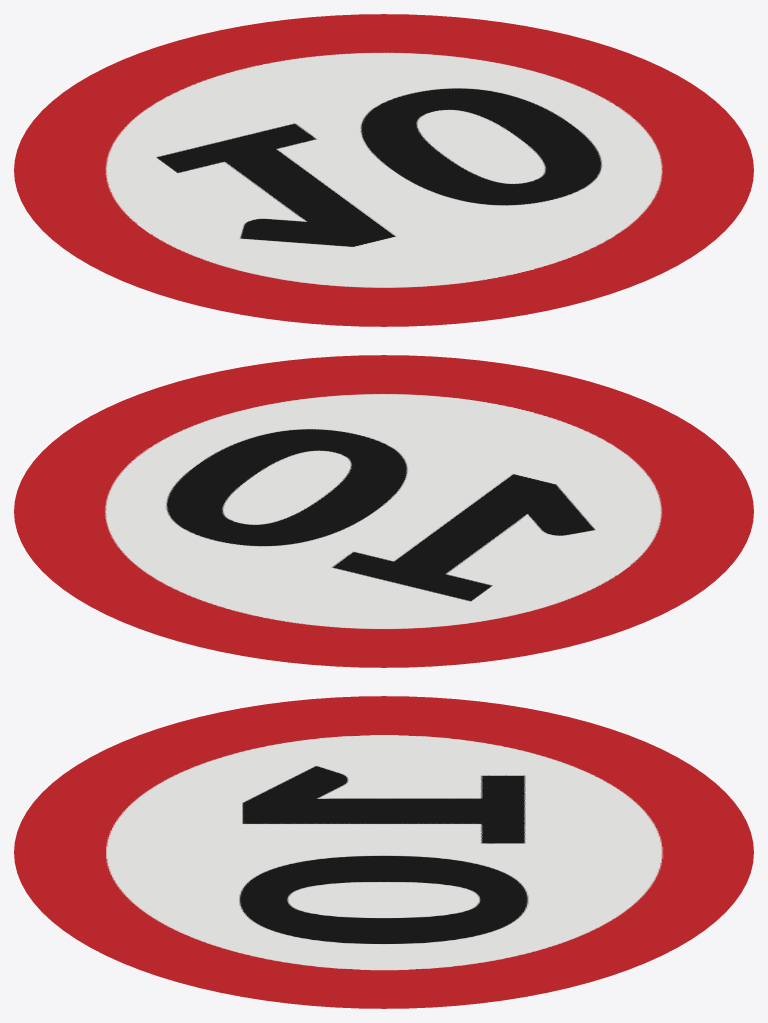
Rendered from stage_10.obj.
3 views of the same model, one above another, from view 1: azimuth 30°, elevation 25°; view 2: azimuth 150°, elevation 25°; view 3: azimuth 270°, elevation 25° (orthographic).
Parts seen in each view (by area): view 1: stage_10; view 2: stage_10; view 3: stage_10.
Part boxes in pixels (x1=…): stage_10: x1=14, y1=14, x2=753, y2=326; stage_10: x1=14, y1=355, x2=753, y2=667; stage_10: x1=14, y1=696, x2=753, y2=1008.
Bounding box in the file's own units: 0.6 × 0 × 0.6.
1 material, 1 textured.
